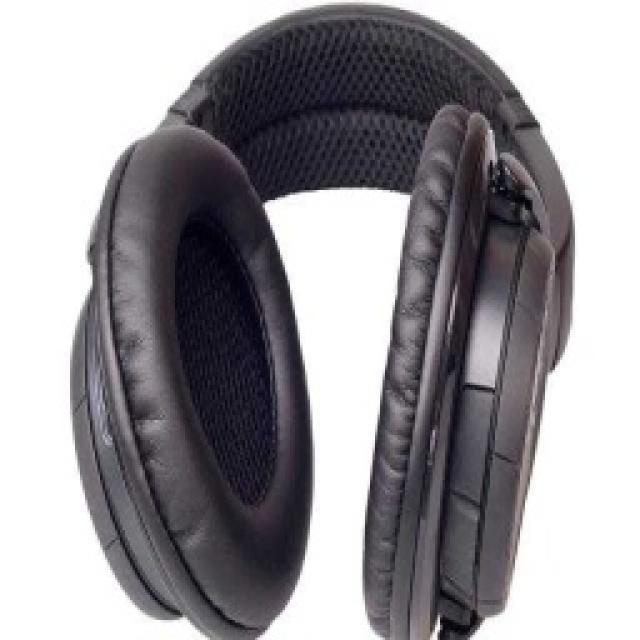headphones: (65, 0, 575, 638)
